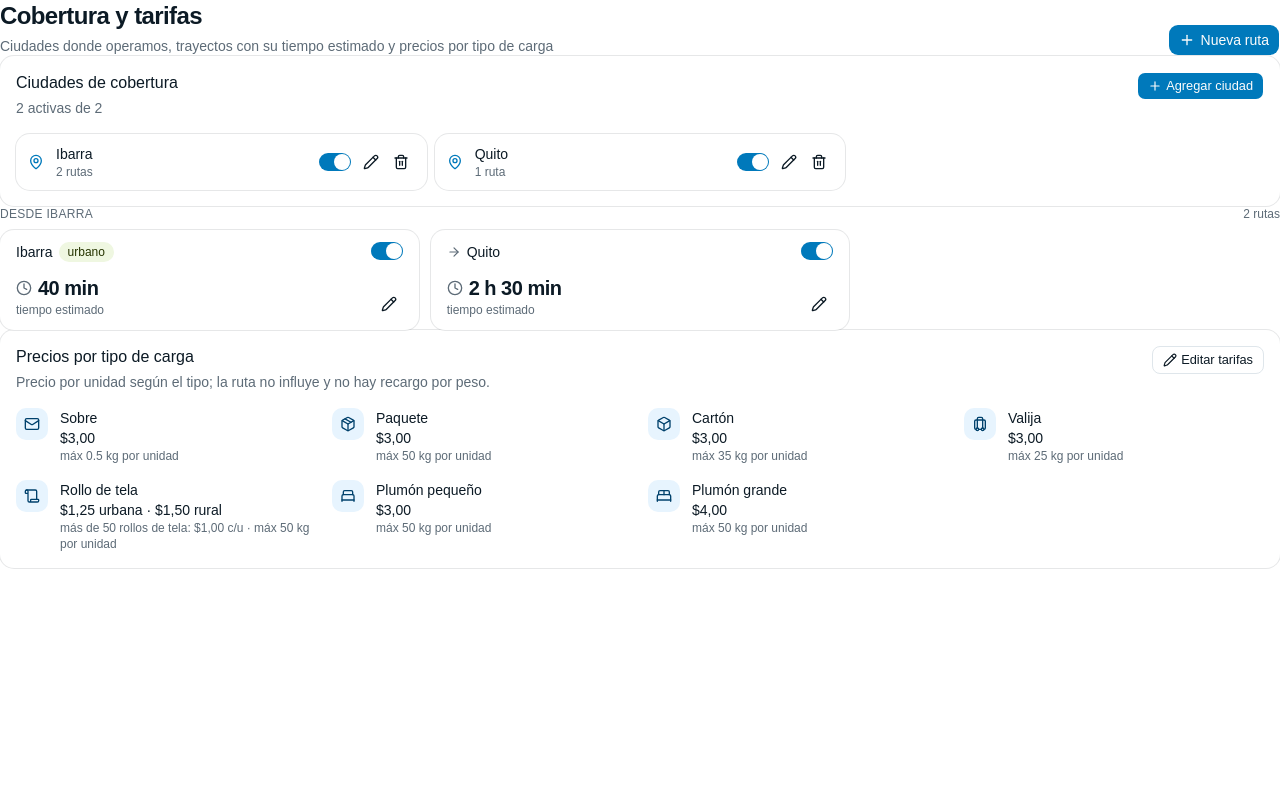
Test: RutasPage (contrato v8: la ruta no tiene tarifa) › el alta de ruta pide origen, destino y tiempo estimado, sin tarifa
Click the button "Nueva ruta".
click(1224, 40)  # box [1168,24,1279,56]
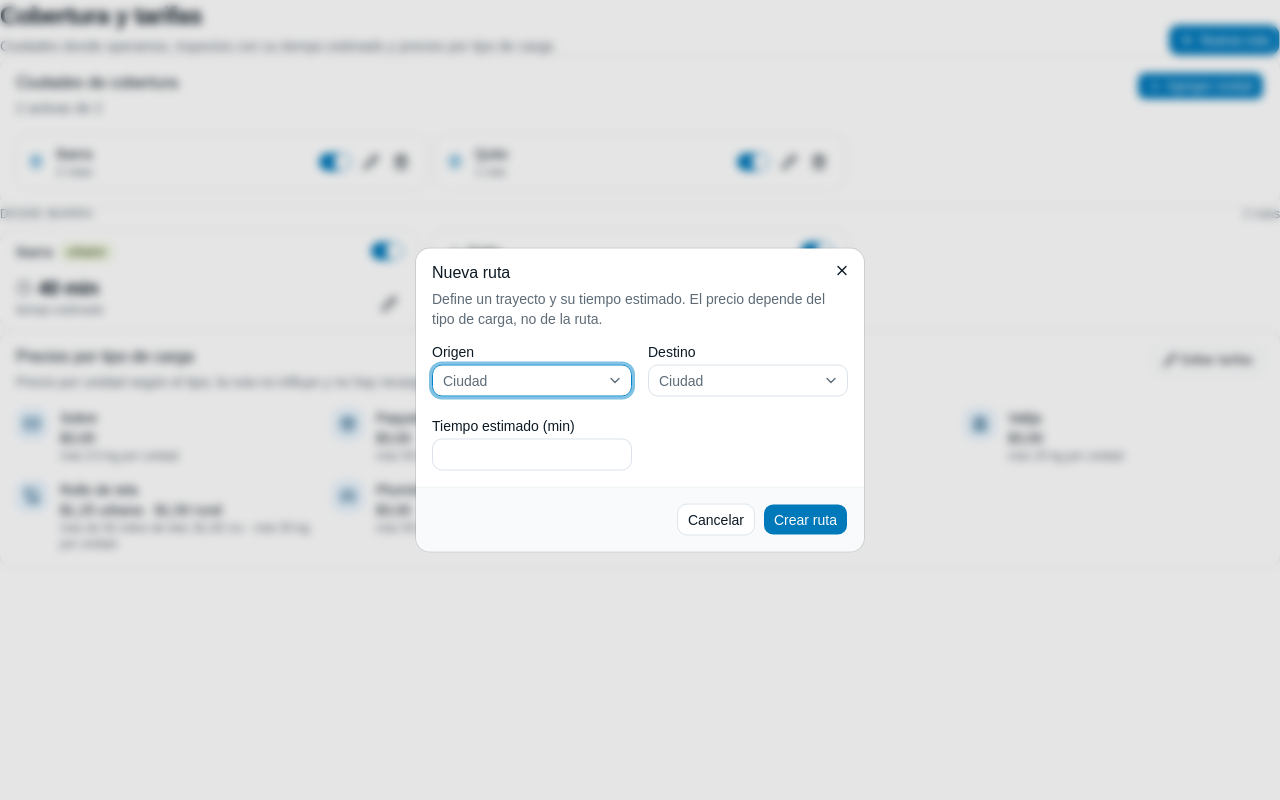
Expected: the number field labelled "Tiempo estimado (min)" is shown, [432,438,632,470]
Expected: the text "El precio depende del tipo de carga, no de la ruta" is shown, [432,290,825,326]
